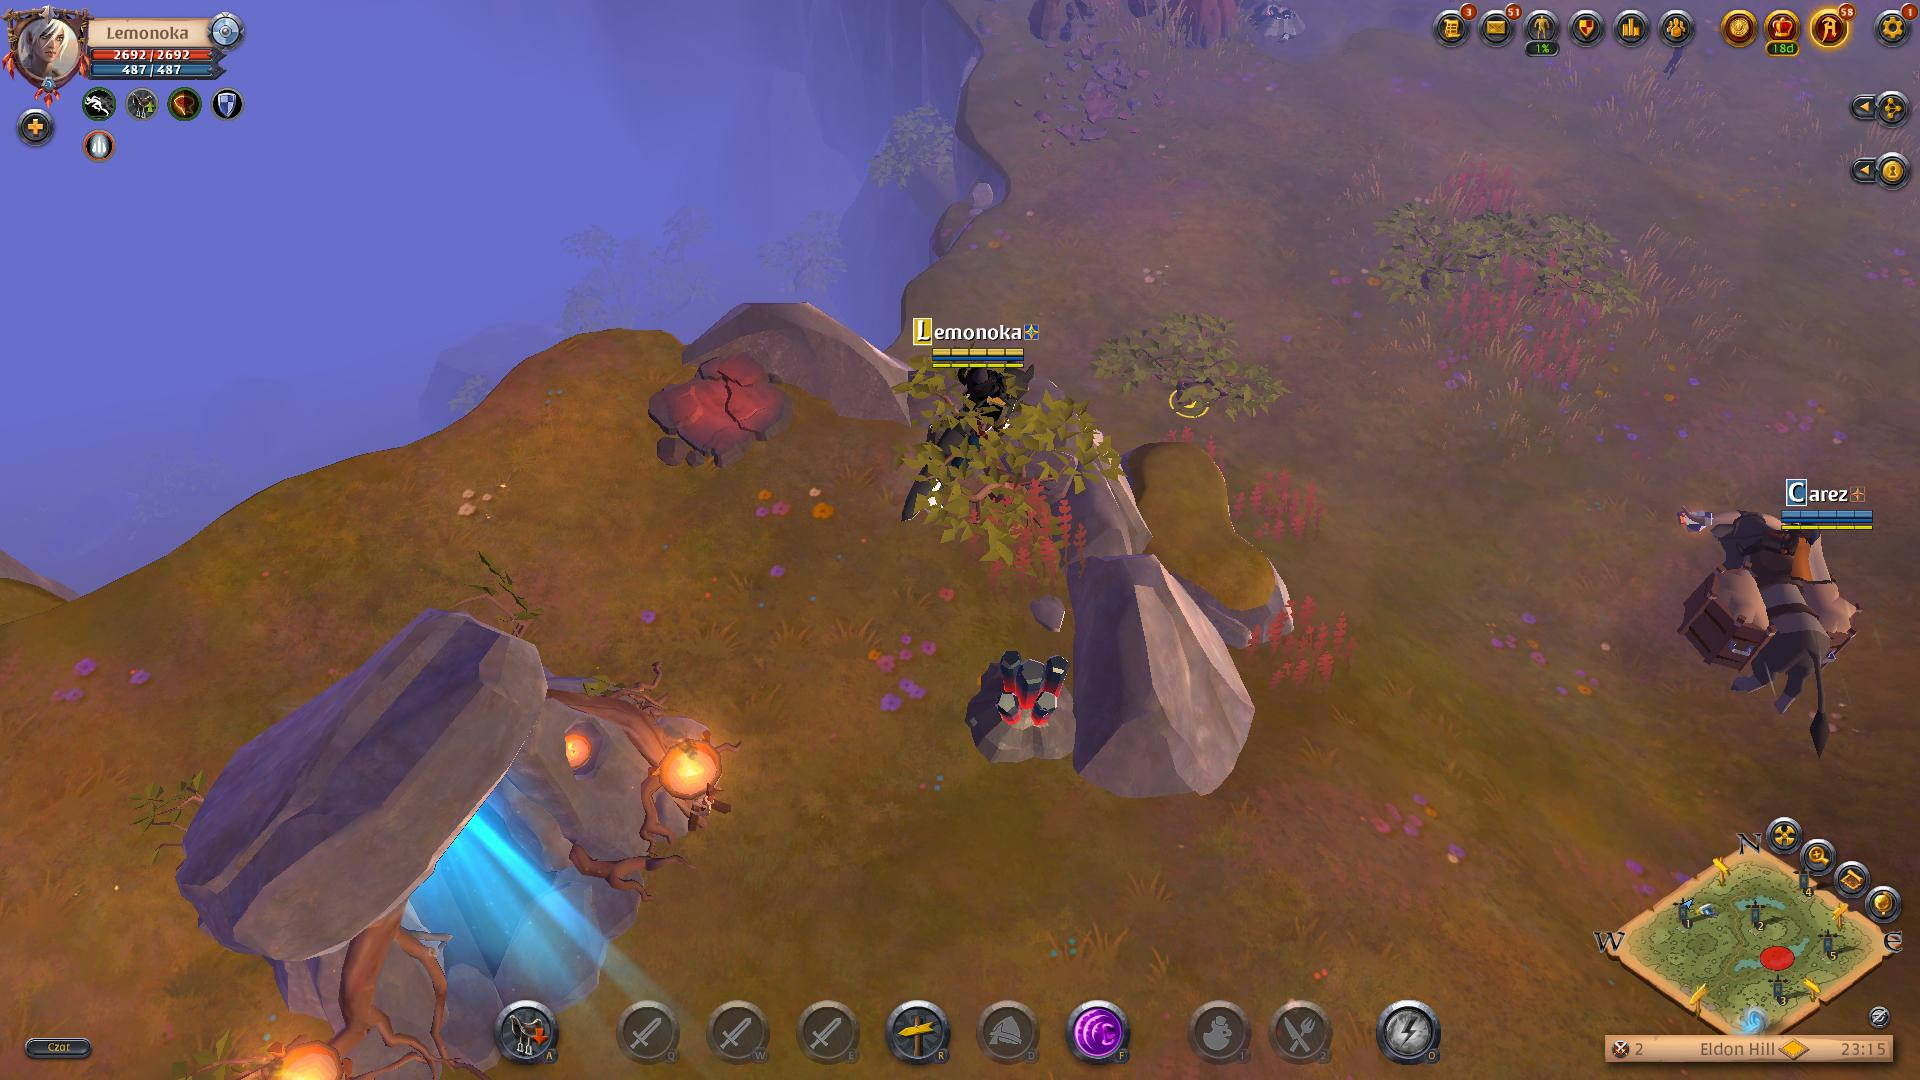ore tier 5: (968, 646, 1084, 773)
